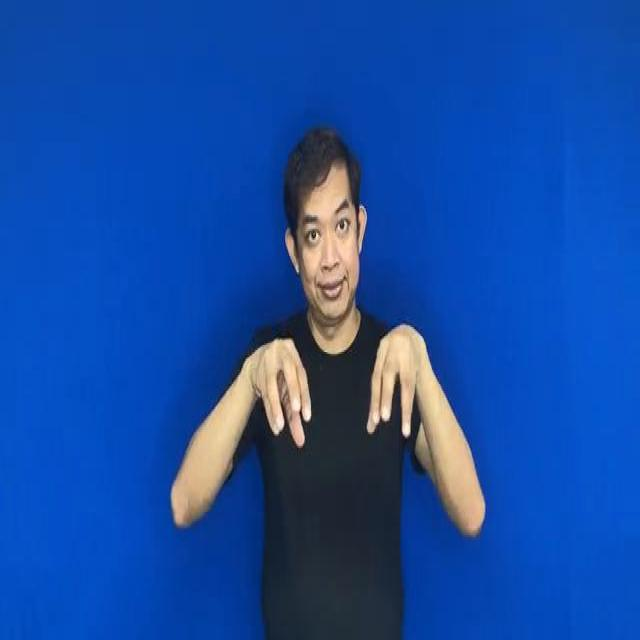egg: (242, 317, 438, 457)
